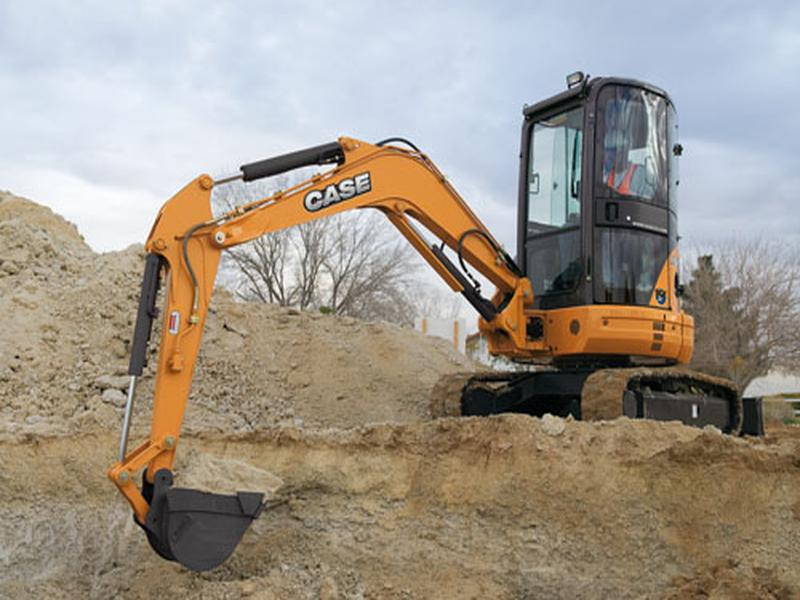shovel: (106, 66, 744, 570)
